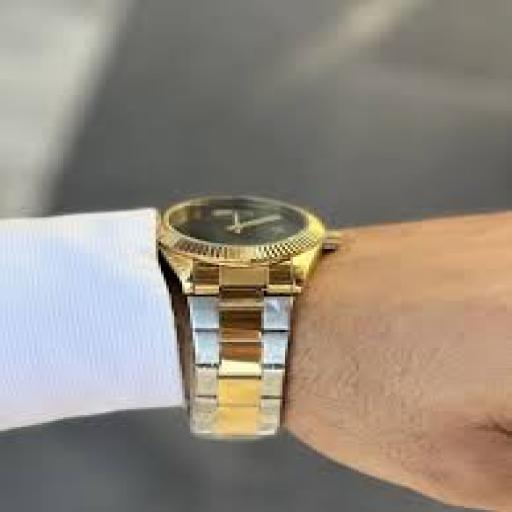KolSaati: (140, 168, 358, 460)
